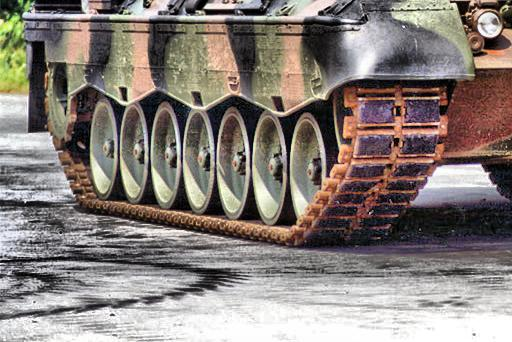tanks: (25, 1, 512, 246)
